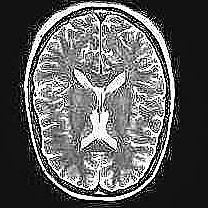Normal_Brain: (1, 1, 208, 208)
